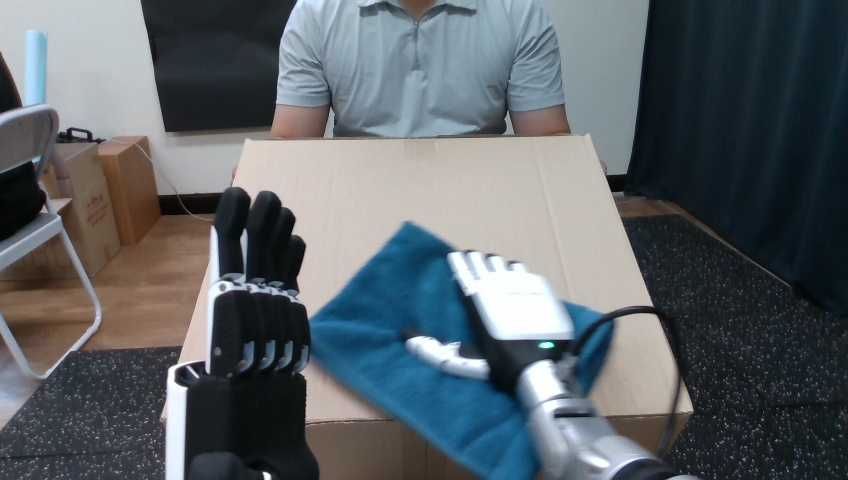left robot hand: (404, 251, 694, 479), (166, 187, 318, 478)
